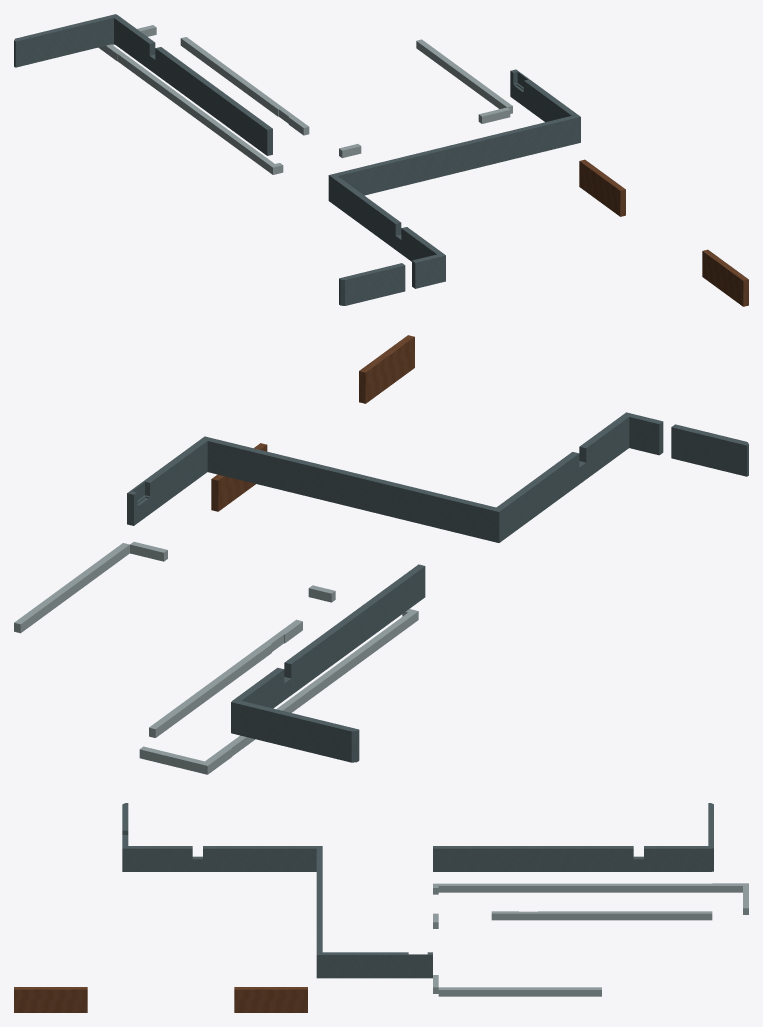
The model's file is D04_COMMONS_CEILING_JUNCTIONS_r004.glb.
The picture shows the model from 3 angles, top to bottom: view 1: azimuth 30°, elevation 25°; view 2: azimuth 150°, elevation 25°; view 3: azimuth 270°, elevation 25°; orthographic projection. The views are drawn at different scales.
Parts seen in each view (by area): view 1: CCJ_Fitted_3_1, CCJ_Fitted_1_2, CCJ_Fitted_5_0, CCJ_Fitted_5_5, CCJ_Fitted_2_4, CCJ_Fitted_8_2, CCJ_Fitted_0_0, CCJ_Fitted_6_0, CCJ_Fitted_7_0, CCJ_Fitted_0_2, CCJ_Fitted_9_0, CCJ_Fitted_2_1 (+6 smaller); view 2: CCJ_Fitted_3_0, CCJ_Fitted_1_0, CCJ_Fitted_5_0, CCJ_Fitted_2_2, CCJ_Fitted_5_5, CCJ_Fitted_0_0, CCJ_Fitted_8_2, CCJ_Fitted_7_0, CCJ_Fitted_9_0, CCJ_Fitted_0_2, CCJ_Fitted_4_0, CCJ_Fitted_11_1 (+6 smaller); view 3: CCJ_Fitted_5_1, CCJ_Fitted_8_3, CCJ_Fitted_5_4, CCJ_Fitted_0_1, CCJ_Fitted_11_3, CCJ_Fitted_6_1, CCJ_Fitted_7_1, CCJ_Fitted_0_3, CCJ_Fitted_4_1, CCJ_Fitted_9_1, CCJ_Fitted_4_8, CCJ_Fitted_0_4 (+4 smaller).
Part boxes in pixels (left/top/right/bottom): CCJ_Fitted_3_1: left=338, top=114, right=580, bottom=195; CCJ_Fitted_1_2: left=15, top=17, right=114, bottom=67; CCJ_Fitted_5_0: left=114, top=30, right=267, bottom=155; CCJ_Fitted_5_5: left=155, top=47, right=267, bottom=141; CCJ_Fitted_2_4: left=345, top=263, right=405, bottom=305; CCJ_Fitted_8_2: left=117, top=54, right=278, bottom=174; CCJ_Fitted_0_0: left=328, top=187, right=424, bottom=261; CCJ_Fitted_6_0: left=579, top=159, right=620, bottom=216; CCJ_Fitted_7_0: left=702, top=249, right=743, bottom=306; CCJ_Fitted_0_2: left=328, top=174, right=395, bottom=235; CCJ_Fitted_9_0: left=416, top=39, right=506, bottom=109; CCJ_Fitted_2_1: left=412, top=255, right=445, bottom=288; CCJ_Fitted_3_0: left=207, top=441, right=502, bottom=542; CCJ_Fitted_1_0: left=231, top=699, right=351, bottom=762; CCJ_Fitted_5_0: left=256, top=581, right=425, bottom=708; CCJ_Fitted_2_2: left=671, top=427, right=747, bottom=476; CCJ_Fitted_5_5: left=284, top=566, right=425, bottom=678; CCJ_Fitted_0_0: left=497, top=431, right=629, bottom=542; CCJ_Fitted_8_2: left=232, top=609, right=418, bottom=755; CCJ_Fitted_7_0: left=359, top=337, right=414, bottom=403; CCJ_Fitted_9_0: left=14, top=544, right=129, bottom=633; CCJ_Fitted_0_2: left=497, top=454, right=579, bottom=525; CCJ_Fitted_4_0: left=127, top=456, right=207, bottom=525; CCJ_Fitted_11_1: left=155, top=644, right=271, bottom=737; CCJ_Fitted_5_1: left=433, top=858, right=712, bottom=871; CCJ_Fitted_8_3: left=438, top=883, right=743, bottom=892; CCJ_Fitted_5_4: left=433, top=846, right=633, bottom=859; CCJ_Fitted_0_1: left=124, top=857, right=316, bottom=871; CCJ_Fitted_11_3: left=491, top=911, right=712, bottom=920; CCJ_Fitted_6_1: left=234, top=987, right=307, bottom=1012; CCJ_Fitted_7_1: left=14, top=987, right=87, bottom=1012; CCJ_Fitted_0_3: left=203, top=846, right=316, bottom=859; CCJ_Fitted_4_1: left=316, top=966, right=432, bottom=978; CCJ_Fitted_9_1: left=438, top=987, right=601, bottom=996; CCJ_Fitted_4_8: left=317, top=954, right=432, bottom=964; CCJ_Fitted_0_4: left=124, top=846, right=192, bottom=859.
Size of the model in its own units: 9.78 by 1.75 by 20.
3 materials, 2 textured.
